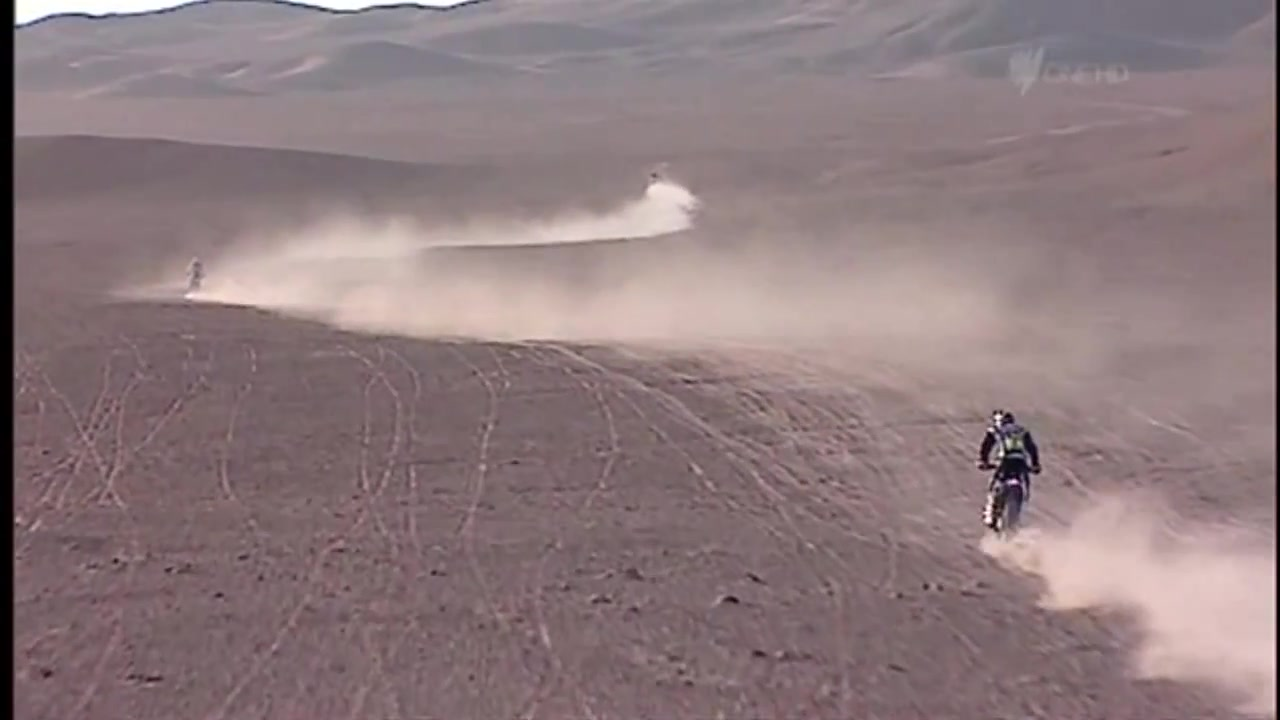motorbike: (978, 450, 1044, 549)
